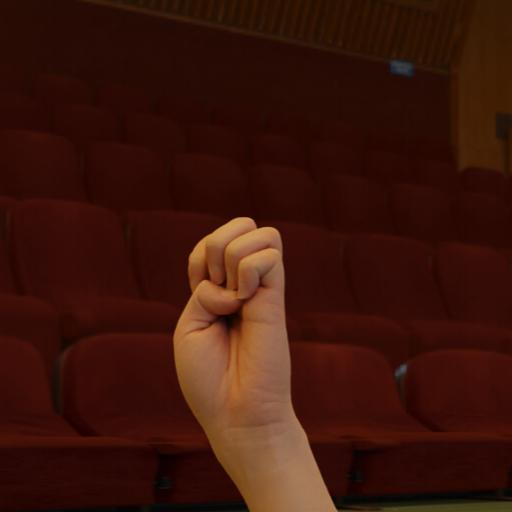E: (157, 210, 349, 512)
